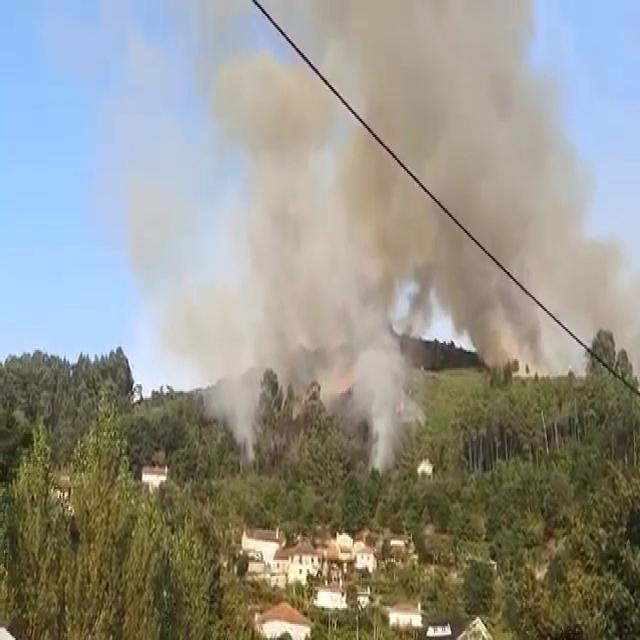Fire: (330, 366, 358, 398), (514, 350, 540, 380)
Smoke: (233, 142, 329, 414), (561, 236, 640, 374), (430, 235, 510, 368), (155, 279, 246, 381), (350, 338, 404, 475), (207, 348, 264, 470), (502, 275, 558, 378), (361, 263, 396, 337), (402, 264, 434, 332), (396, 386, 430, 422), (366, 440, 396, 478), (242, 426, 259, 470)
